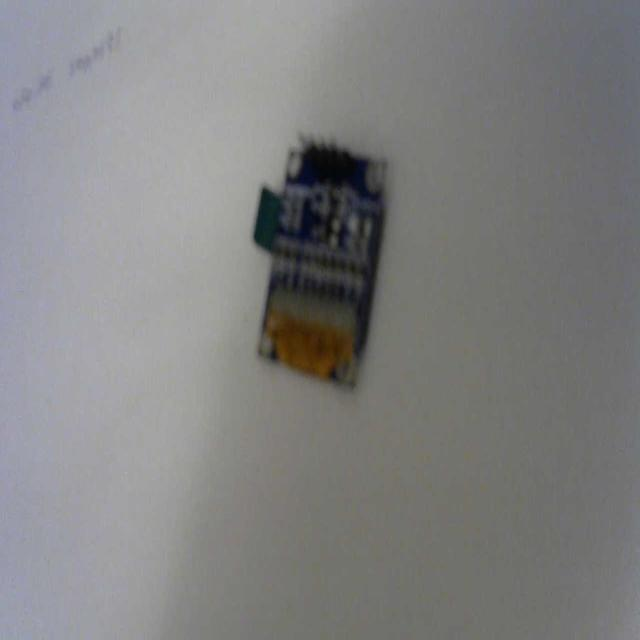oled: (251, 125, 399, 399)
